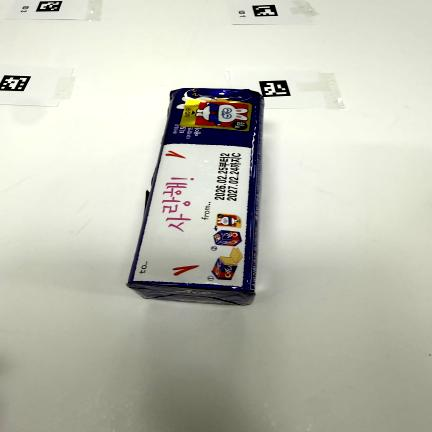cracker_ace: (127, 88, 264, 305)
